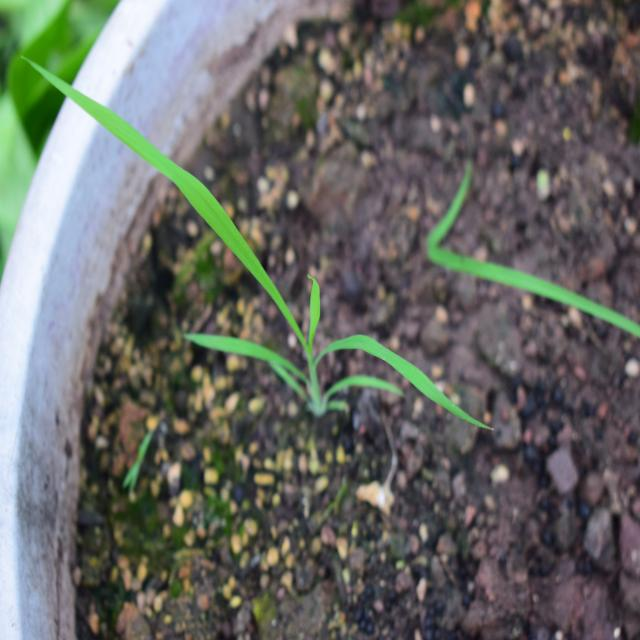barnyard_grass: (11, 31, 494, 465)
